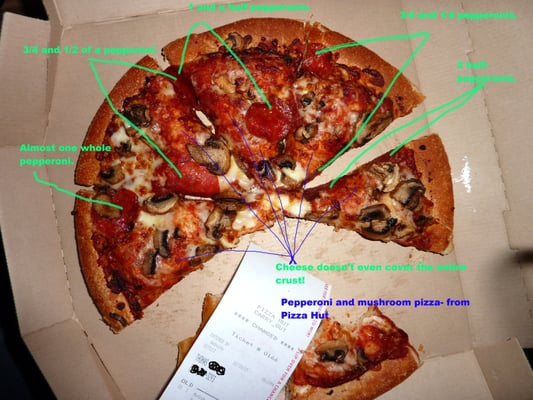curry: (1, 0, 500, 400)
sandwich: (68, 15, 453, 330), (291, 133, 455, 255), (284, 306, 422, 400)
